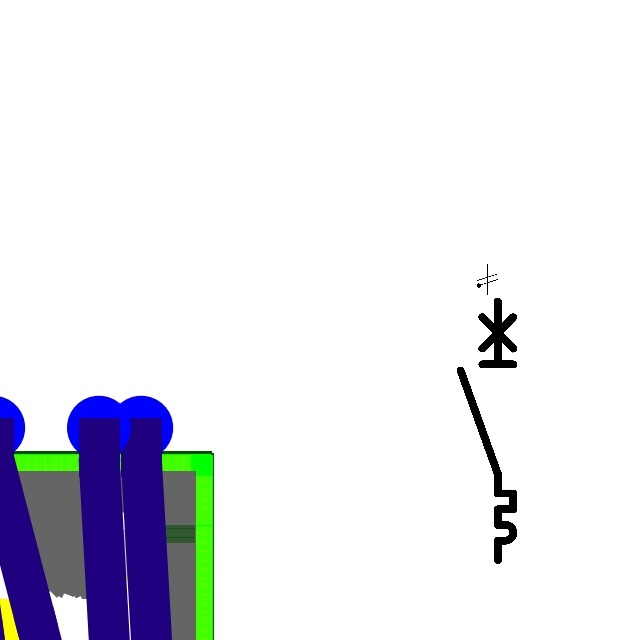interruptor_termomagnetico: (454, 294, 520, 566)
